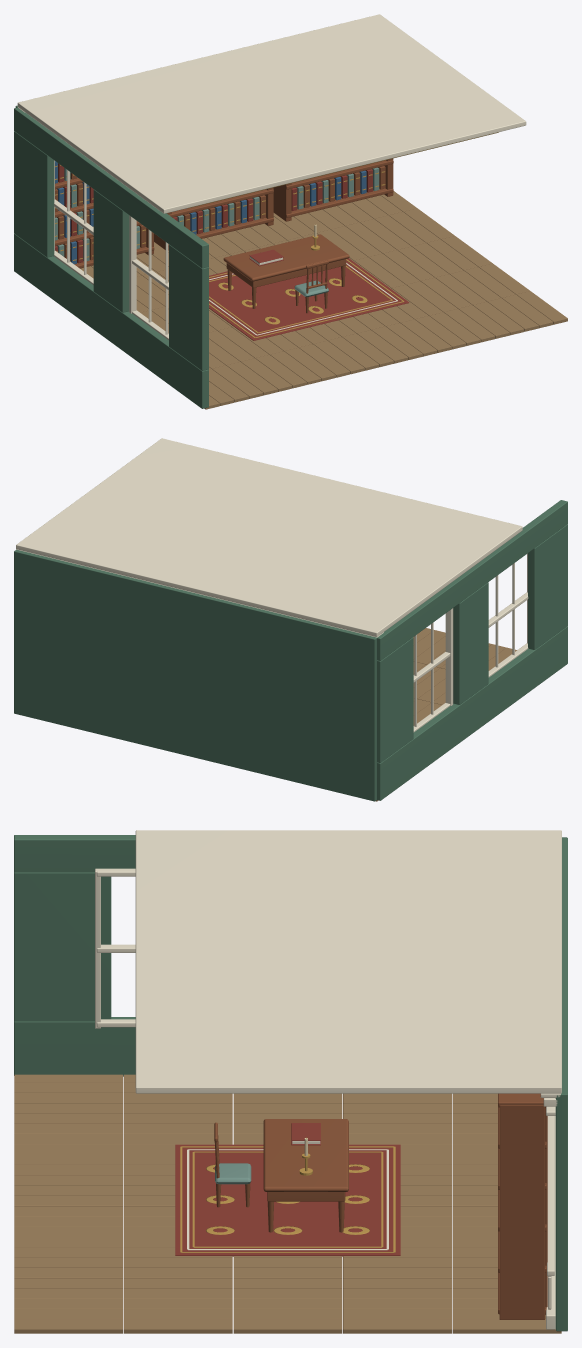
File: library.glb
The picture shows the model from 3 angles, top to bottom: view 1: azimuth 30°, elevation 25°; view 2: azimuth 150°, elevation 25°; view 3: azimuth 270°, elevation 25°; orthographic projection. The views are drawn at different scales.
Parts seen in each view (by area): view 1: Plaster ceiling, Left wall sill, Woven carpet, Left wall lintel, Left wall pier.002, Left wall pier, Left wall pier.001, Mahogany tabletop, Table apron, Window casing.001, Library shelf.012, Library shelf.013 (+48 smaller); view 2: Back wall, Plaster ceiling, Left wall sill, Left wall lintel, Left wall pier, Left wall pier.002, Left wall pier.001, Window casing.002; view 3: Plaster ceiling, Woven carpet, Left wall pier, Bookcase pilaster.005, Left wall sill, Mahogany tabletop, Back wall, Left wall lintel, Individual oak floorboard.120, Individual oak floorboard.122, Individual oak floorboard.121, Individual oak floorboard.123 (+64 smaller).
Part boxes in pixels (x1,y1,x2,y2): Plaster ceiling: [17, 14, 526, 213]; Left wall sill: [14, 233, 208, 408]; Woven carpet: [209, 258, 409, 340]; Left wall lintel: [14, 107, 208, 268]; Left wall pier.002: [14, 131, 54, 257]; Left wall pier: [169, 244, 208, 370]; Left wall pier.001: [93, 189, 129, 312]; Mahogany tabletop: [223, 234, 349, 281]; Table apron: [226, 259, 346, 287]; Window casing.001: [129, 215, 136, 313]; Library shelf.012: [286, 188, 393, 217]; Library shelf.013: [286, 160, 393, 189]; Back wall: [14, 549, 376, 801]; Plaster ceiling: [16, 438, 522, 636]; Left wall sill: [377, 626, 567, 800]; Left wall lintel: [377, 500, 567, 660]; Left wall pier: [528, 524, 567, 649]; Left wall pier.002: [377, 637, 413, 762]; Left wall pier.001: [453, 582, 488, 704]; Window casing.002: [445, 608, 453, 705]; Plaster ceiling: [135, 830, 561, 1093]; Woven carpet: [175, 1144, 400, 1256]; Left wall pier: [14, 872, 111, 1021]; Bookcase pilaster.005: [499, 1105, 545, 1319]; Left wall sill: [14, 1017, 135, 1076]; Mahogany tabletop: [263, 1119, 348, 1191]; Back wall: [555, 837, 567, 1331]; Left wall lintel: [14, 835, 135, 872]; Individual oak floorboard.120: [14, 1319, 123, 1333]; Individual oak floorboard.122: [233, 1319, 342, 1333]; Individual oak floorboard.121: [124, 1319, 232, 1333]; Individual oak floorboard.123: [343, 1319, 451, 1333].
Bounding box in the file's own units: 10.1 × 4.47 × 9.1.
